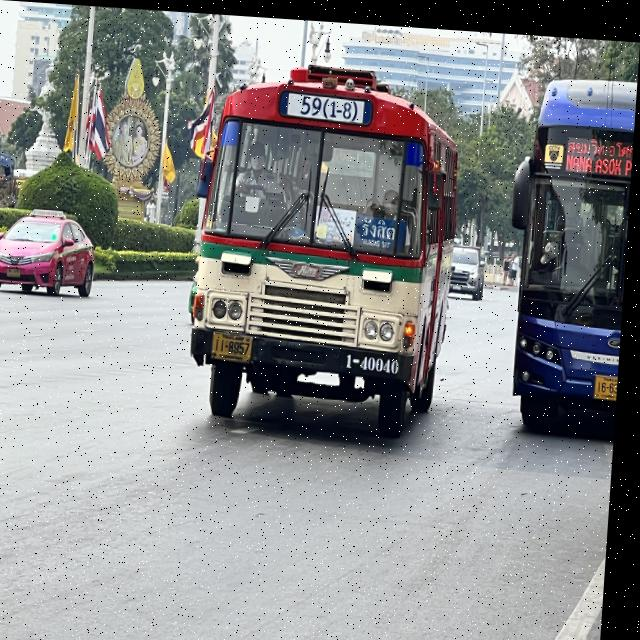BMTA-bus: (192, 62, 462, 436)
Bus Line Number: (279, 83, 379, 125)
Bus Side Number: (344, 345, 409, 374)
Destination Sign: (356, 207, 411, 251)
TSB-Bus: (513, 71, 638, 434)
